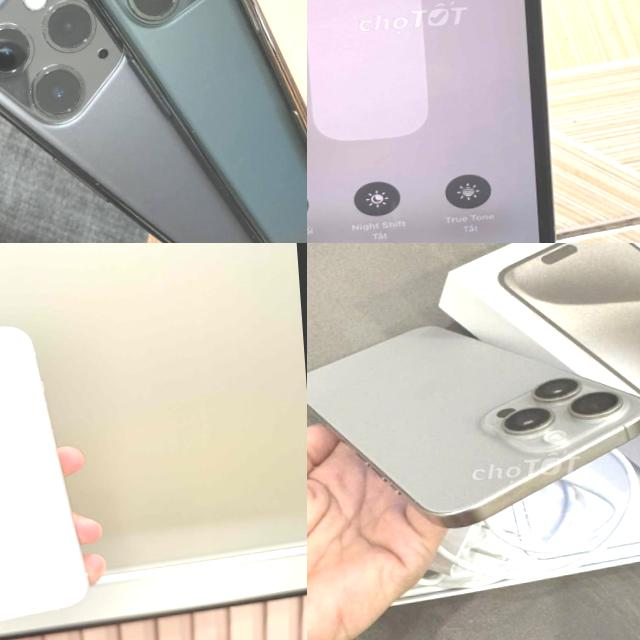gen_12_13: (0, 317, 96, 640)
gen_14: (173, 0, 307, 243)
gen_15: (307, 299, 640, 533)
gen_x_xs: (307, 0, 588, 243)
